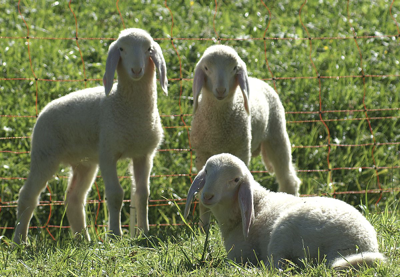koyun: (12, 27, 165, 244), (187, 154, 384, 267), (190, 44, 290, 152)
